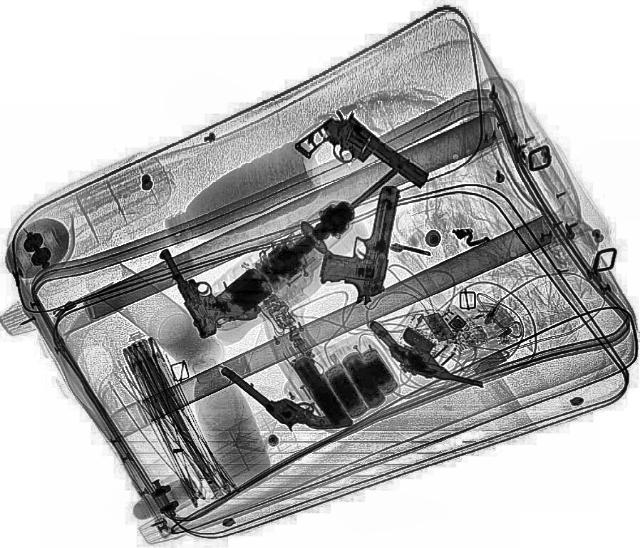Gun: (290, 106, 436, 216), (219, 342, 355, 450), (157, 232, 261, 338), (312, 180, 400, 304), (356, 320, 494, 388)
